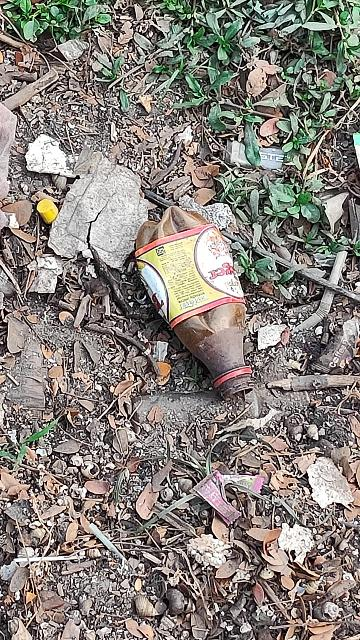bottle: (127, 213, 265, 395)
